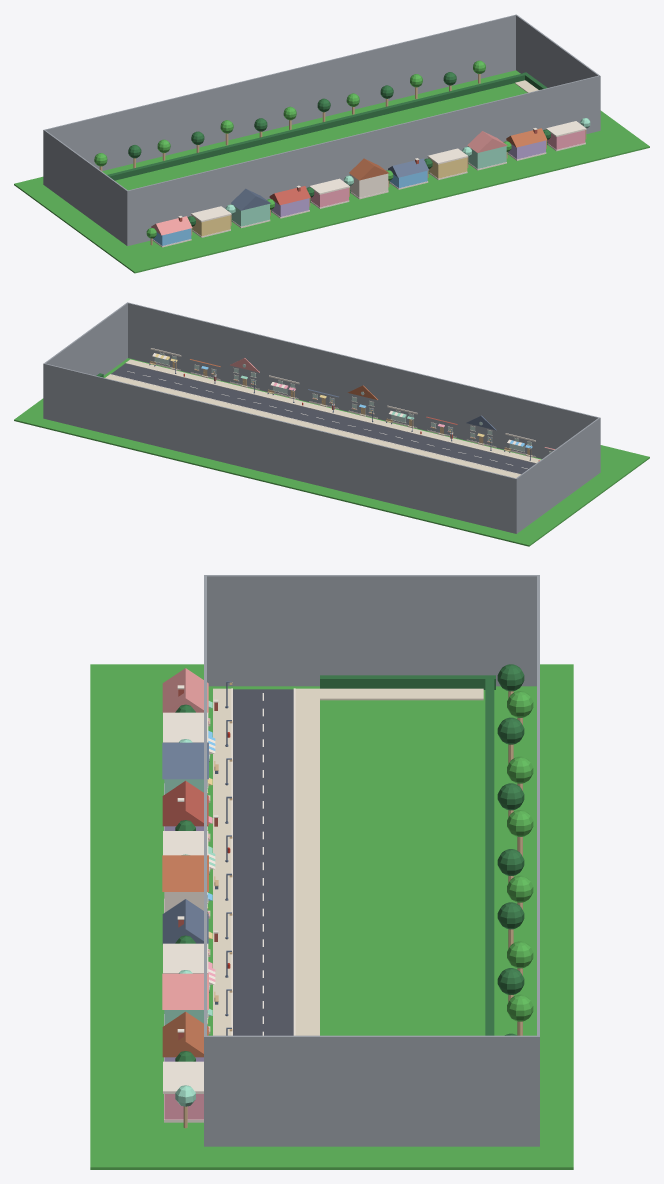
The model's file is CleanACat_Area_StreetBig.fbx.
3 views of the same model, one above another, from view 1: azimuth 30°, elevation 25°; view 2: azimuth 150°, elevation 25°; view 3: azimuth 270°, elevation 25° (orthographic). The views are drawn at different scales.
Visible parts, largest first — view 1: CleanACat_Area_StreetBig_Barrier, CleanACat_Area_StreetBig, CleanACat_Area_StreetBig_Houses, CleanACat_Area_StreetBig_Greenery, CleanACat_Area_StreetBig_Pavement; view 2: CleanACat_Area_StreetBig_Barrier, CleanACat_Area_StreetBig, CleanACat_Area_StreetBig_Houses, CleanACat_Area_StreetBig_Pavement; view 3: CleanACat_Area_StreetBig, CleanACat_Area_StreetBig_Barrier, CleanACat_Area_StreetBig_Houses, CleanACat_Area_StreetBig_Greenery, CleanACat_Area_StreetBig_Pavement.
Boxes of the visible parts, x1=… form: CleanACat_Area_StreetBig_Barrier: x1=43, y1=14, x2=600, y2=245; CleanACat_Area_StreetBig: x1=14, y1=70, x2=649, y2=273; CleanACat_Area_StreetBig_Houses: x1=151, y1=121, x2=586, y2=247; CleanACat_Area_StreetBig_Greenery: x1=94, y1=60, x2=547, y2=180; CleanACat_Area_StreetBig_Pavement: x1=146, y1=118, x2=590, y2=245; CleanACat_Area_StreetBig_Barrier: x1=43, y1=302, x2=600, y2=533; CleanACat_Area_StreetBig: x1=14, y1=358, x2=649, y2=546; CleanACat_Area_StreetBig_Houses: x1=150, y1=348, x2=554, y2=457; CleanACat_Area_StreetBig_Pavement: x1=149, y1=360, x2=539, y2=461; CleanACat_Area_StreetBig: x1=90, y1=664, x2=573, y2=1169; CleanACat_Area_StreetBig_Barrier: x1=204, y1=575, x2=539, y2=1146; CleanACat_Area_StreetBig_Houses: x1=162, y1=668, x2=215, y2=1122; CleanACat_Area_StreetBig_Greenery: x1=320, y1=664, x2=533, y2=1035; CleanACat_Area_StreetBig_Pavement: x1=175, y1=681, x2=232, y2=1128.
Size of the model in its own units: 392 by 40.93 by 159.
Materials: 1 (1 with a texture image).
